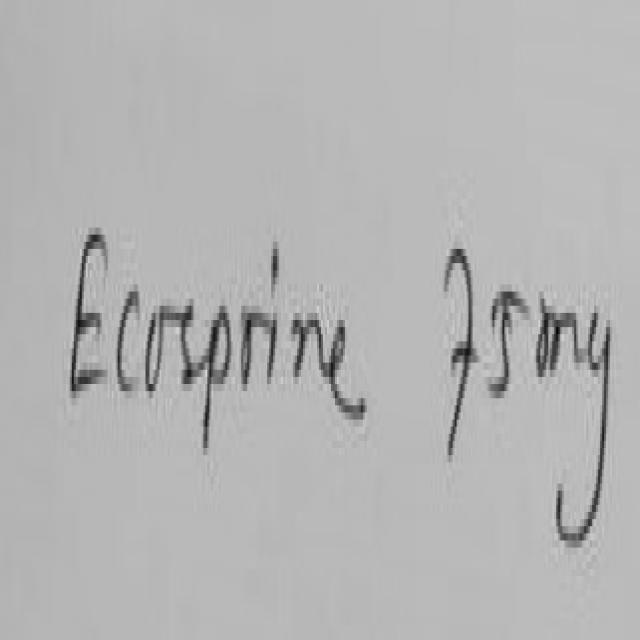5: (490, 299, 530, 395)
7: (447, 249, 477, 452)
E: (72, 235, 107, 388)
c: (118, 292, 139, 391)
e: (329, 320, 366, 416)
g: (558, 313, 611, 544)
i: (269, 313, 276, 380)
m: (538, 299, 579, 373)
n: (292, 306, 328, 384)
o: (146, 306, 163, 388)
p: (207, 313, 231, 444)
r: (241, 313, 271, 380)
s: (178, 295, 194, 382)
